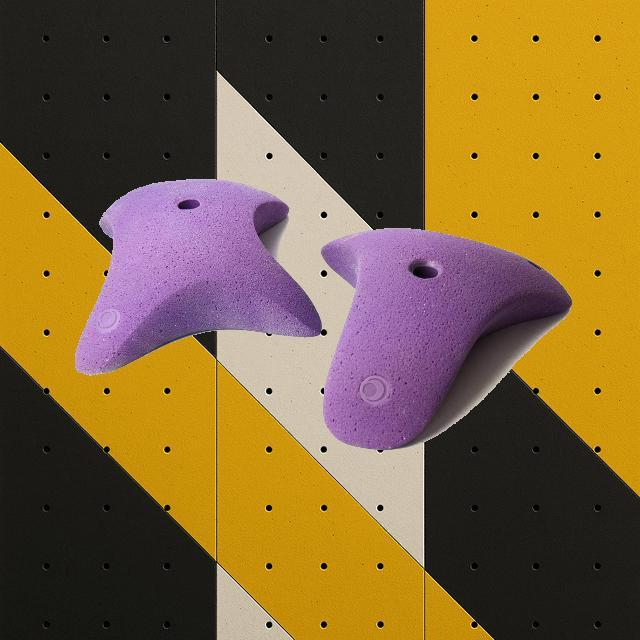Pinch: (320, 226, 572, 450), (72, 176, 322, 376)
